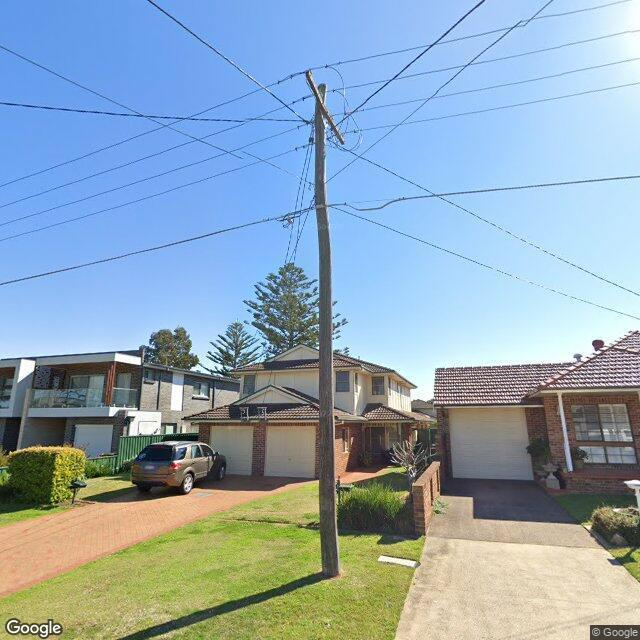crossarm: (302, 69, 344, 147)
timber-pole: (311, 84, 340, 575)
